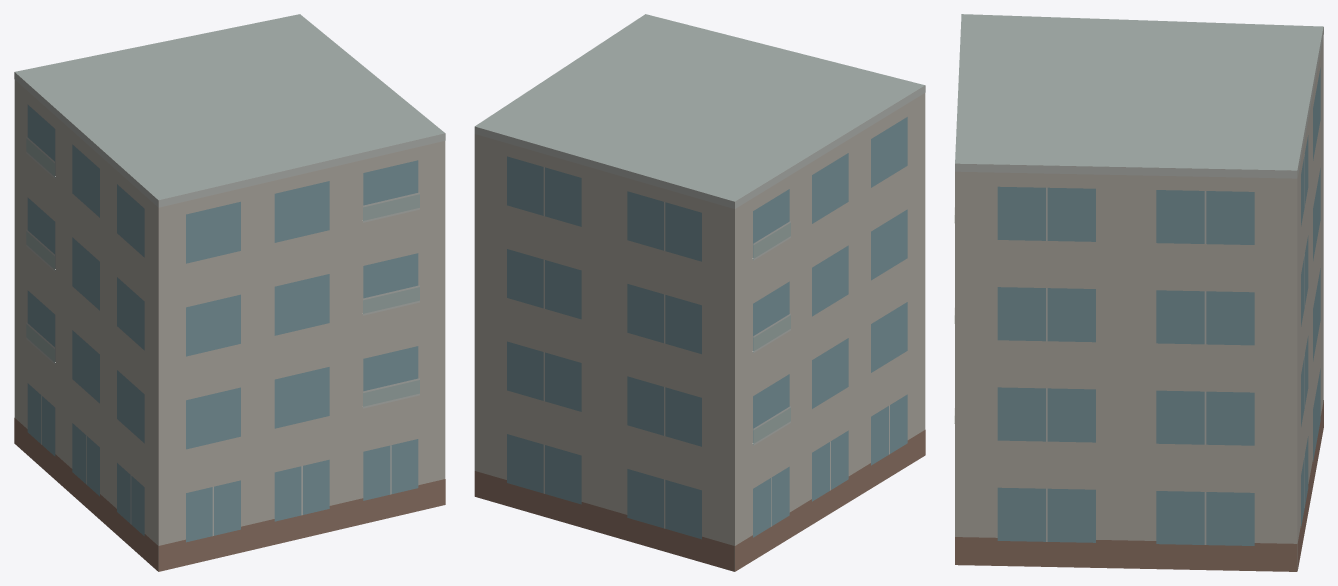
Rendered from survey-upis-33011342.glb.
3 views of the same model, side by side, from view 1: azimuth 30°, elevation 25°; view 2: azimuth 150°, elevation 25°; view 3: azimuth 270°, elevation 25° (orthographic). The views are drawn at different scales.
Visible parts, largest first — view 1: survey-upis-33011342.tmp; view 2: survey-upis-33011342.tmp; view 3: survey-upis-33011342.tmp.
Part boxes in pixels (x1,y1,x2,y2): survey-upis-33011342.tmp: (14, 14, 445, 571); survey-upis-33011342.tmp: (474, 14, 925, 571); survey-upis-33011342.tmp: (954, 14, 1323, 571).
Size of the model in its own units: 10.22 by 12.2 by 10.19.
